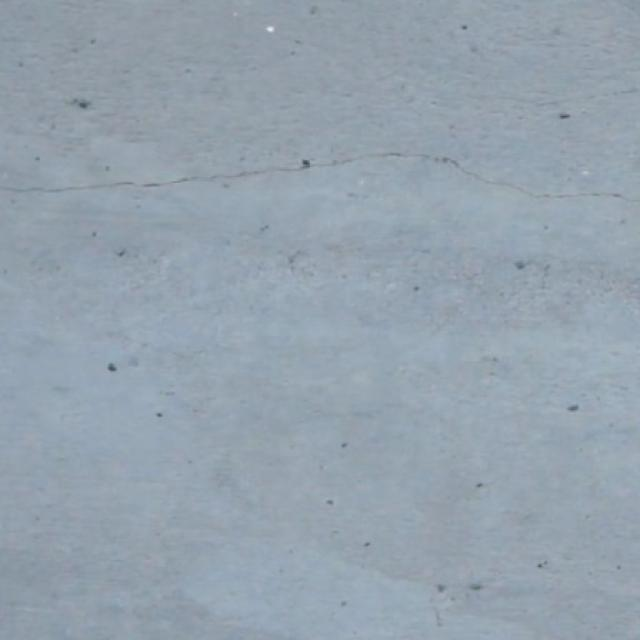Horizontal Crack: (0, 149, 640, 206)
